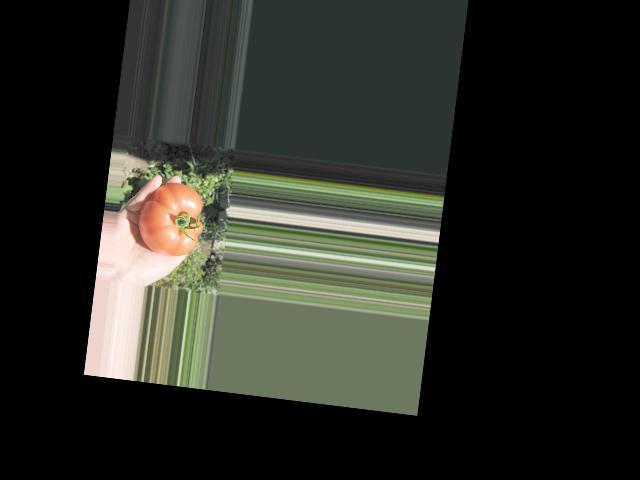tomato: (135, 178, 207, 258)
